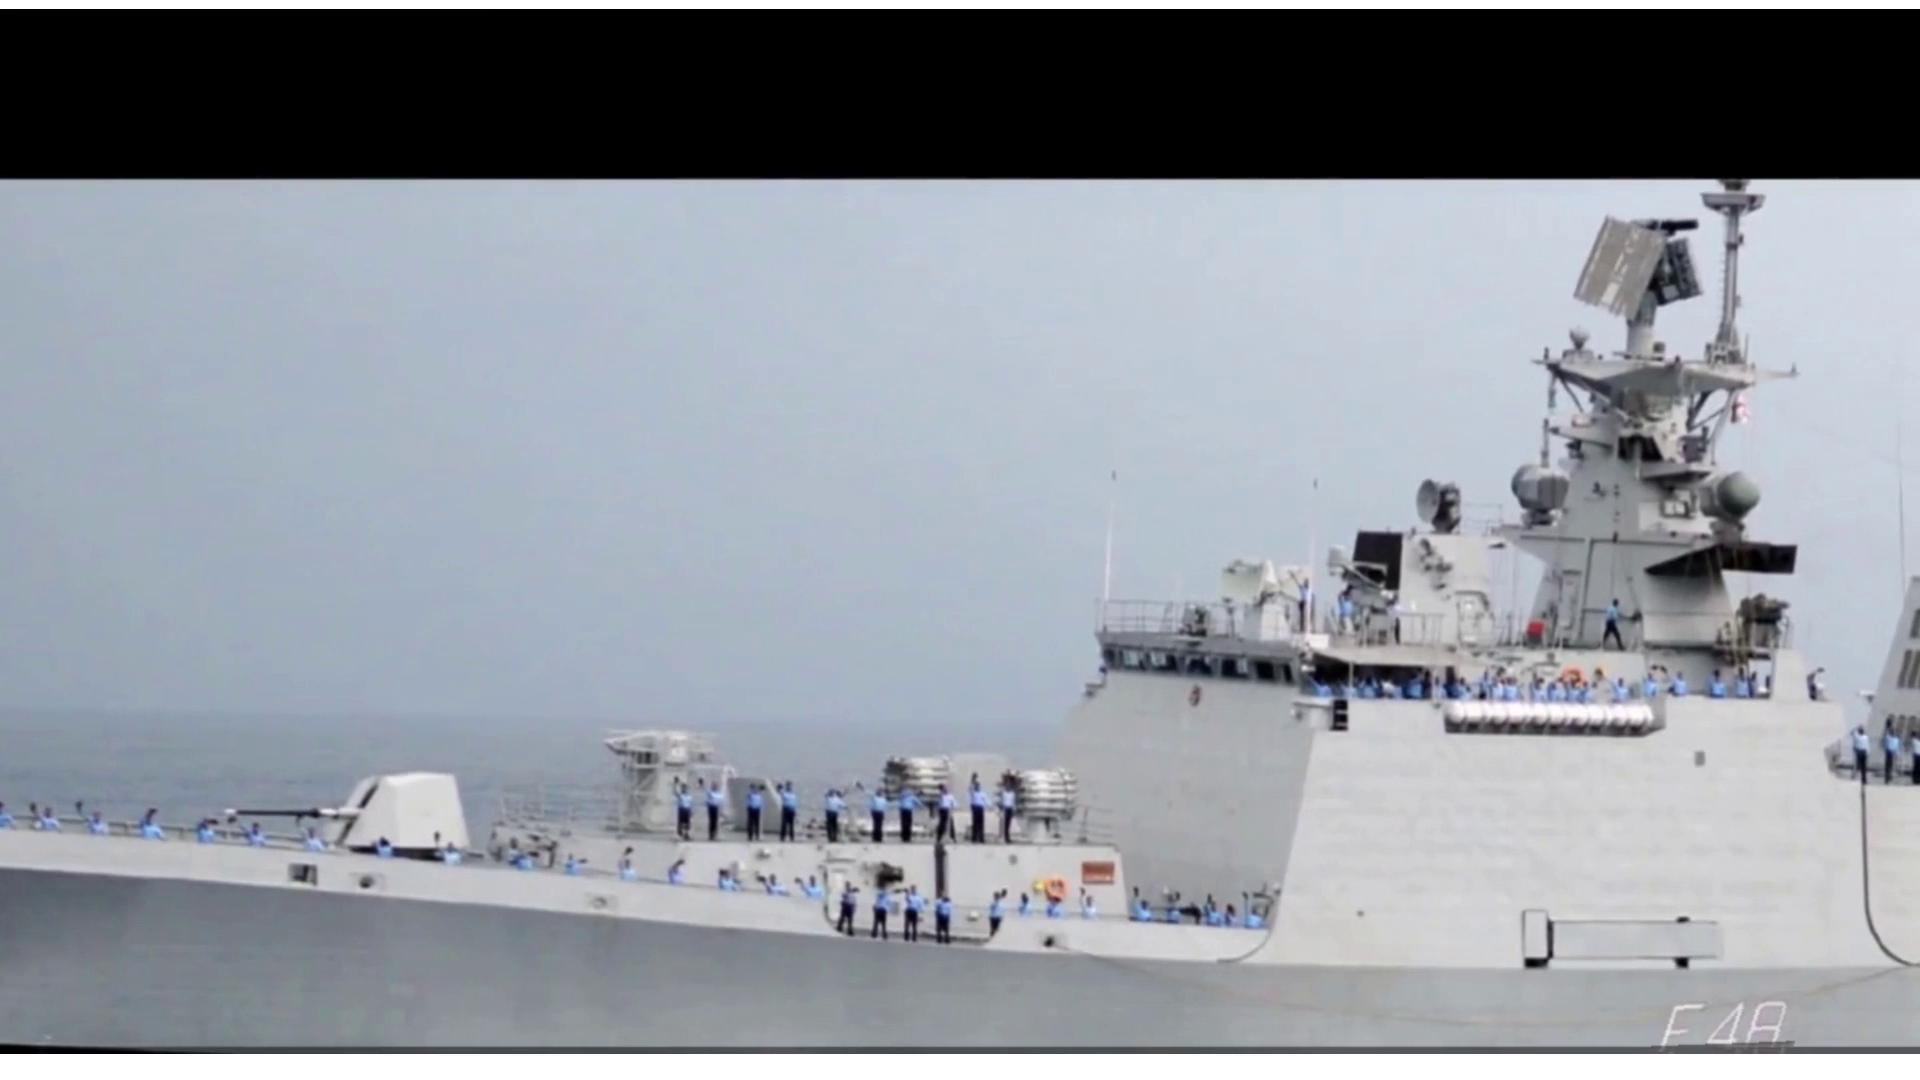OCR: (1646, 992, 1804, 1054)
